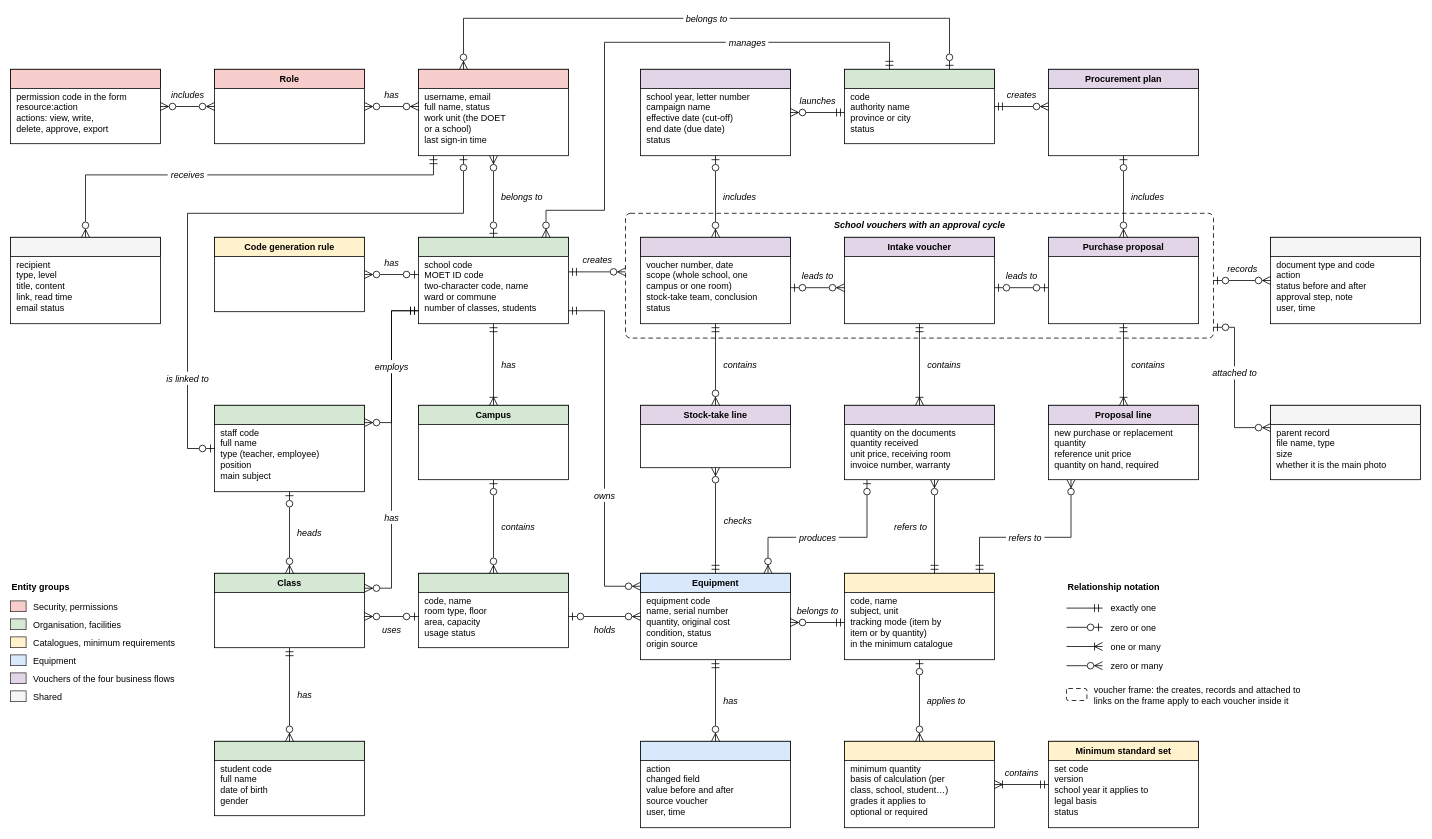
The diagram is 1432 pixels wide and 839 high, and some of its shapes have lost their labels. The shapes that lost their labels are listed below. From the top down, each one's box as (x1, y1, x2, y2) in pixels, then its label:
(10, 69, 161, 89): Permission
(418, 69, 569, 89): User
(640, 69, 791, 89): Stock-take campaign
(844, 69, 995, 89): DOET
(214, 69, 365, 144): role code role name description whether it is a system role
(1048, 69, 1199, 156): plan code plan name school year, budget year approval comment status
(10, 237, 161, 257): Notification
(418, 237, 569, 257): School
(640, 237, 791, 257): Stock-take voucher
(1270, 237, 1421, 257): Approval log
(214, 237, 365, 312): target object prefix length of the number part start number, current number
(844, 237, 995, 324): voucher number intake date origin source funding source, supplier status
(1048, 237, 1199, 324): voucher number proposal date budget year submission letter, reason status
(214, 405, 365, 425): Staff member
(844, 405, 995, 425): Intake line
(1270, 405, 1421, 425): Attached file
(418, 405, 569, 480): campus code campus name address whether it is the main campus
(640, 405, 791, 468): room, condition in the register found or not actual room, condition
(418, 573, 569, 593): Room
(844, 573, 995, 593): Equipment catalogue
(214, 573, 365, 648): class name grade school year number of students
(214, 741, 365, 761): Student
(640, 741, 791, 761): Equipment history
(844, 741, 995, 761): Equipment minimum requirement
